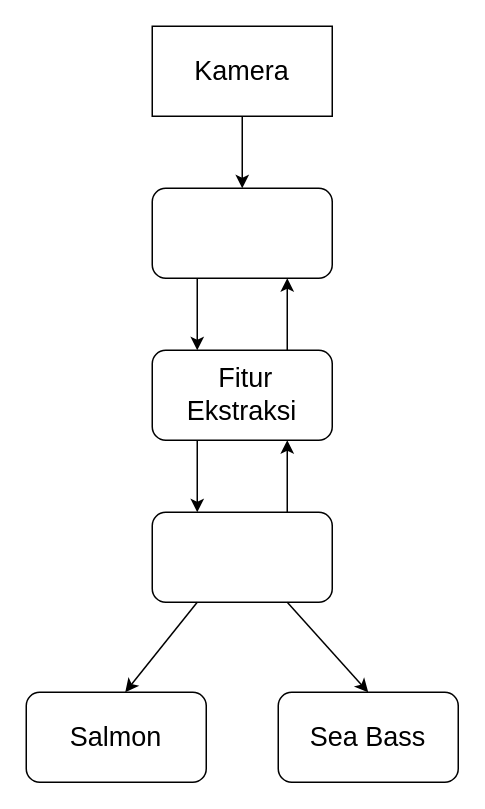
Some shapes in this 485 by 809 pixel diagram are drawn without their labels. Here are the shapes that lost their labels. From the top down, the centre of each, then its label:
At point (241, 232): "Preprocessing".
At point (241, 556): "Klasifikasi".
